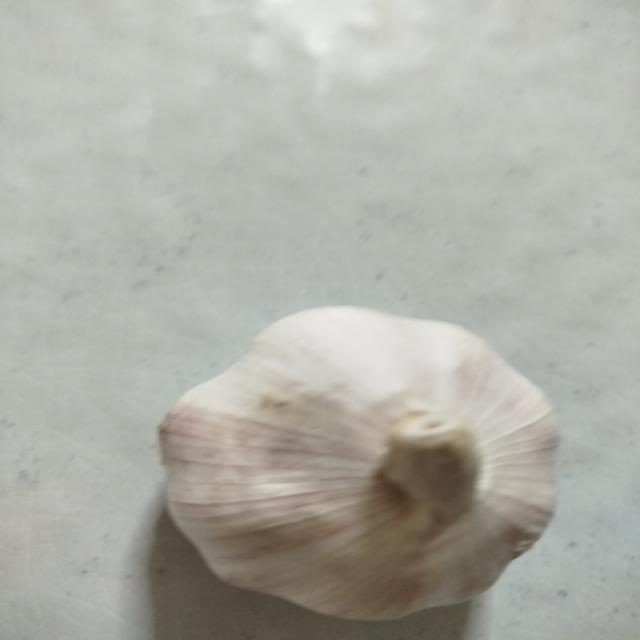garlic: (157, 304, 561, 622)
